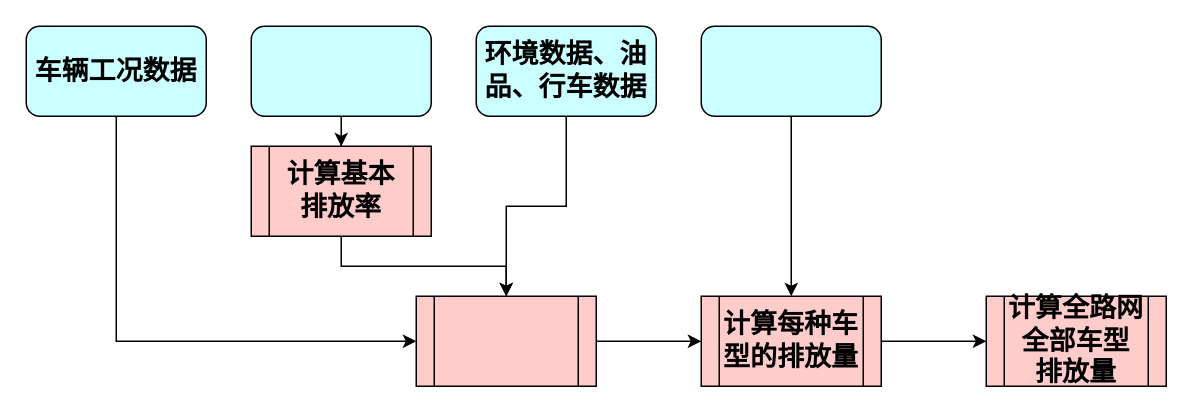
Image size: 1193x416. Some labels were removed from this diagram. The shapes that lost their labels are listed below. From the top down, each one's centre as x and y in pixels, then its label:
At point (340, 70): "道路车辆 技术分布".
At point (790, 70): "全路网实时 交通流数据".
At point (505, 340): "计算修正 排放率".
